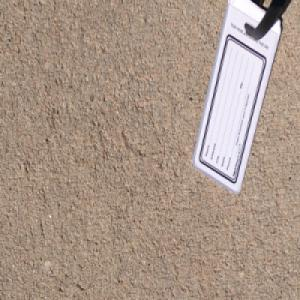LuggageTag: (190, 0, 287, 197)
